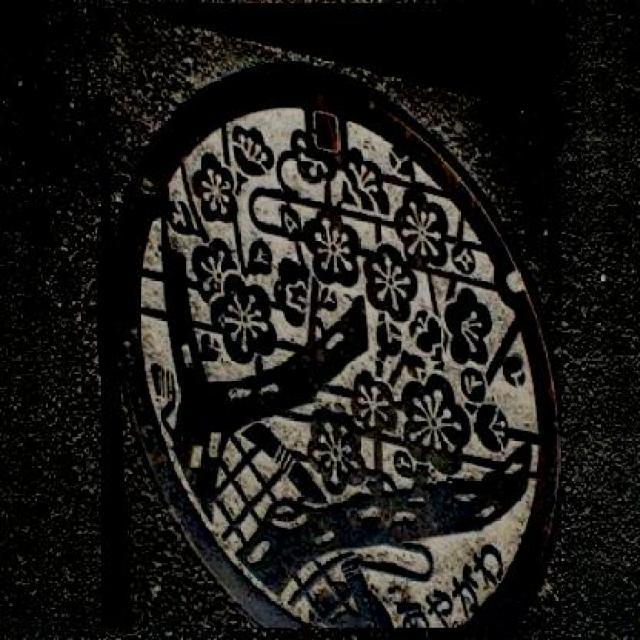Manhole: (100, 2, 562, 628)
